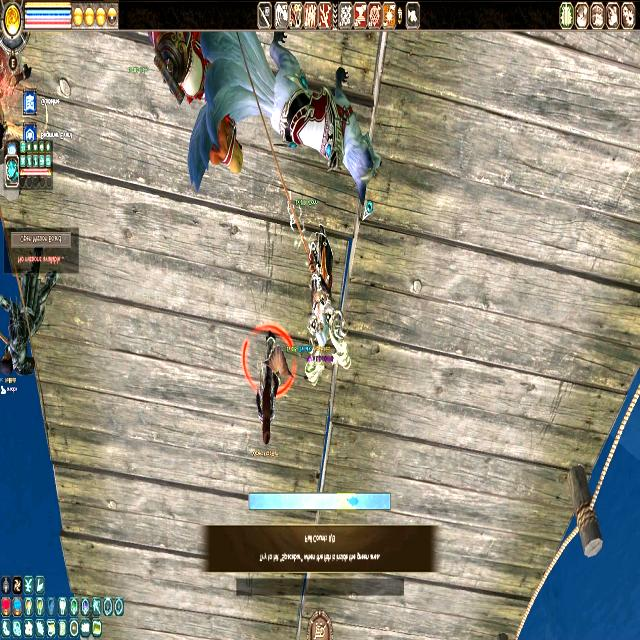fishes: (346, 494, 360, 509)
